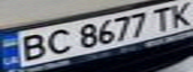6: (97, 16, 118, 46)
7: (127, 9, 154, 38), (112, 12, 136, 43)
8: (75, 20, 100, 50)
B: (9, 30, 54, 62)
C: (39, 27, 75, 56)
K: (166, 0, 193, 28)
T: (148, 3, 178, 32)
